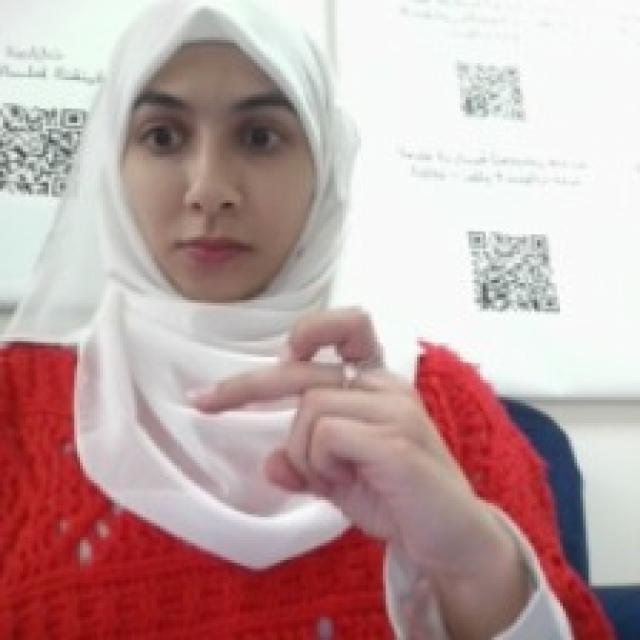sunday: (180, 294, 457, 529)
